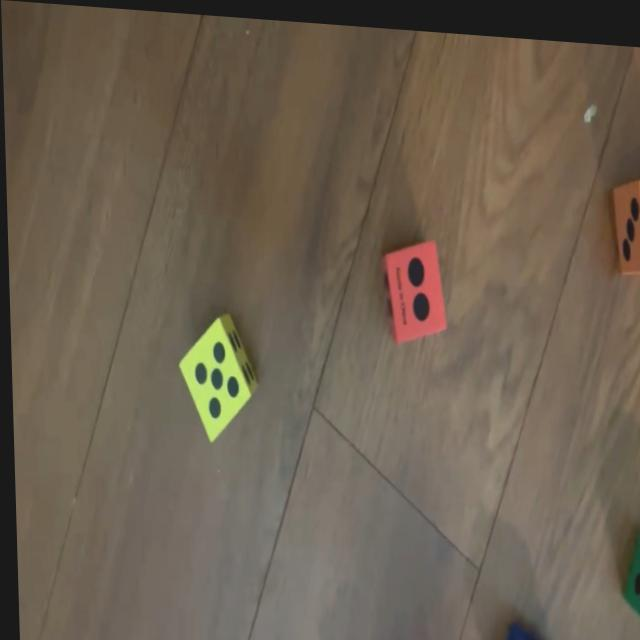cube: (377, 235, 444, 342), (615, 520, 640, 621), (497, 614, 563, 640)
